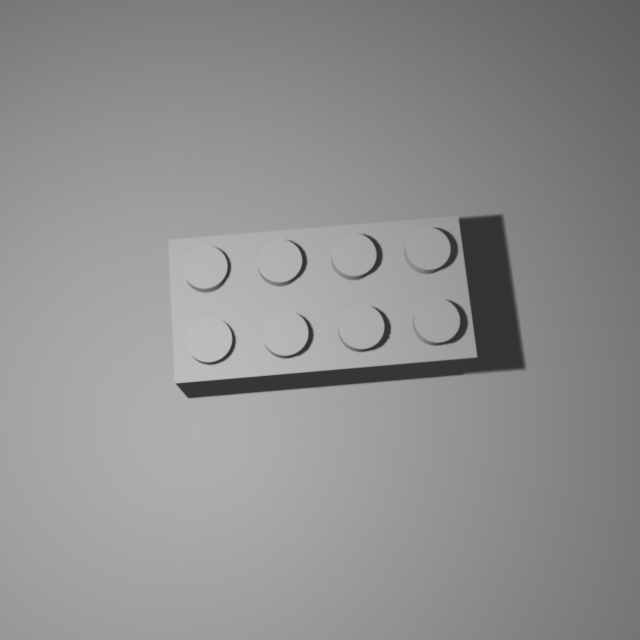lego_2x4: (166, 211, 480, 398)
